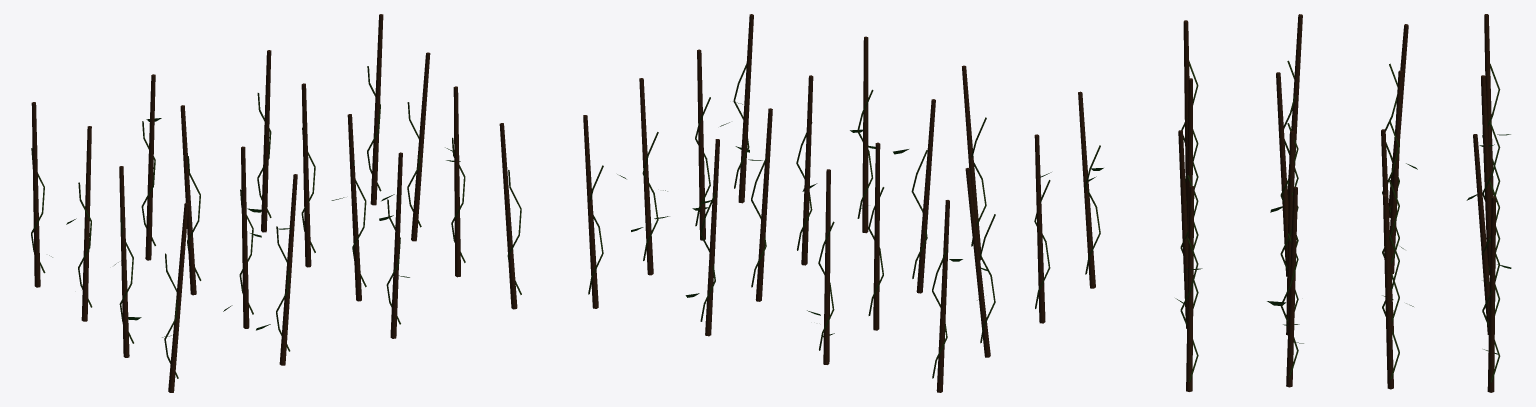
Rendered from fm_yam_2.glb.
3 views of the same model, side by side, from view 1: azimuth 30°, elevation 25°; view 2: azimuth 150°, elevation 25°; view 3: azimuth 270°, elevation 25° (orthographic). The views are drawn at different scales.
Parts seen in each view (by area): view 1: fm_yam_2; view 2: fm_yam_2; view 3: fm_yam_2.
Boxes of the visible parts, <box> form: fm_yam_2: <box>31,14,521,392</box>; fm_yam_2: <box>583,14,1103,392</box>; fm_yam_2: <box>1175,14,1511,392</box>.
Bounding box in the file's own units: 3.53 × 1.6 × 2.7.
